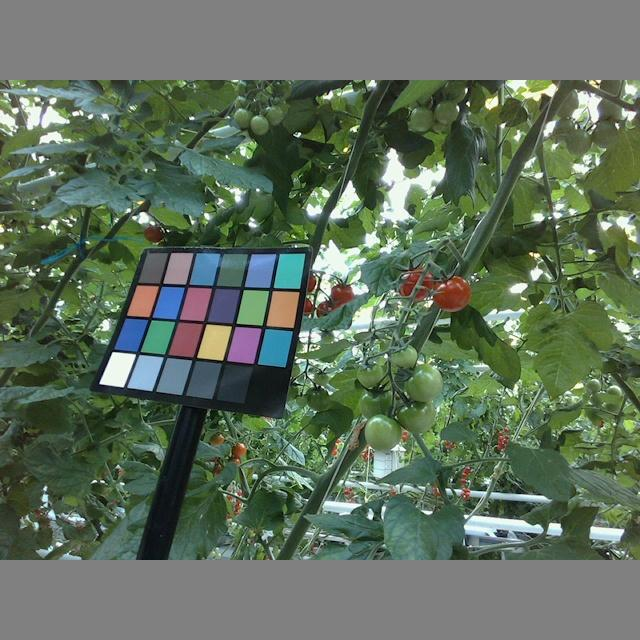green: (395, 397, 437, 433), (403, 367, 446, 401), (356, 387, 397, 422), (362, 417, 401, 453), (354, 362, 386, 388), (388, 344, 418, 368), (411, 103, 435, 133), (433, 100, 463, 124), (232, 107, 254, 130), (262, 100, 283, 122), (249, 114, 270, 135)
red: (430, 274, 470, 312), (394, 267, 433, 303)
